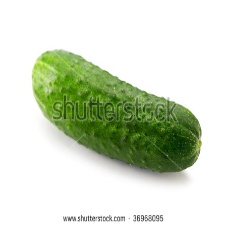cucumber: (32, 48, 200, 180)
